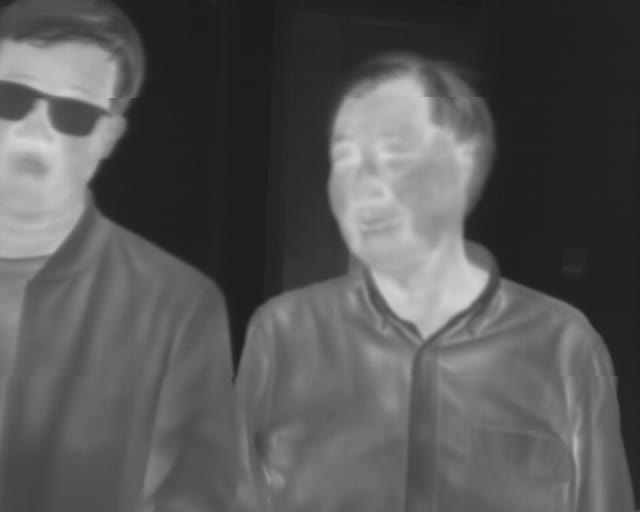face: (327, 48, 494, 266), (1, 1, 143, 221)
